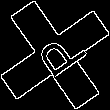P_SW: (24, 25, 86, 85)
